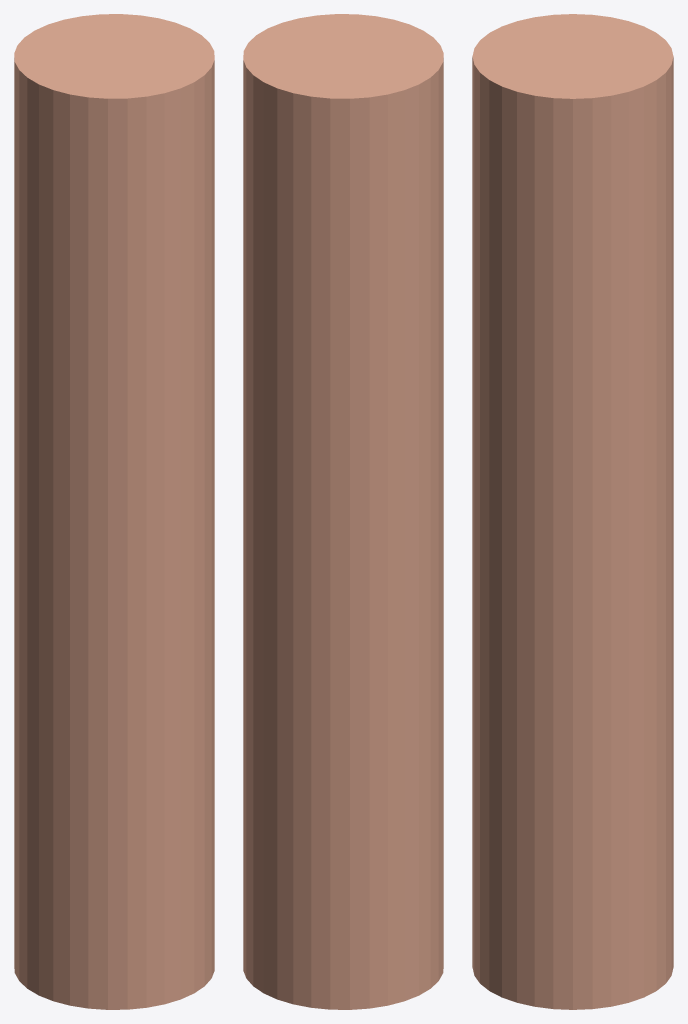
File: pole.glb
3 renders of one model, left to right at view 1: azimuth 30°, elevation 25°; view 2: azimuth 150°, elevation 25°; view 3: azimuth 270°, elevation 25°, orthographic.
Visible parts, largest first — view 1: Cylinder; view 2: Cylinder; view 3: Cylinder.
Boxes of the visible parts, x1,y1,x2,y2 form: Cylinder: [14, 14, 214, 1009]; Cylinder: [243, 14, 443, 1009]; Cylinder: [472, 14, 673, 1009].
Size of the model in its own units: 0.2 by 1 by 0.2.
